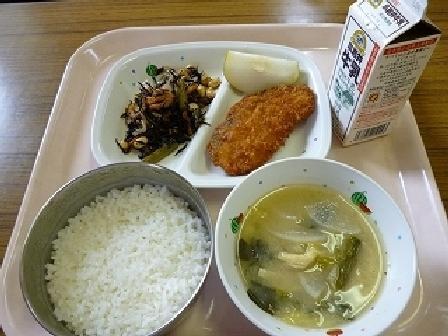Milk: (323, 2, 442, 146)
Rice: (27, 162, 202, 328)
Soups: (224, 168, 400, 331)
cutlet: (210, 83, 317, 172)
pear: (220, 38, 295, 91)
salad with sauce: (108, 61, 208, 150)
